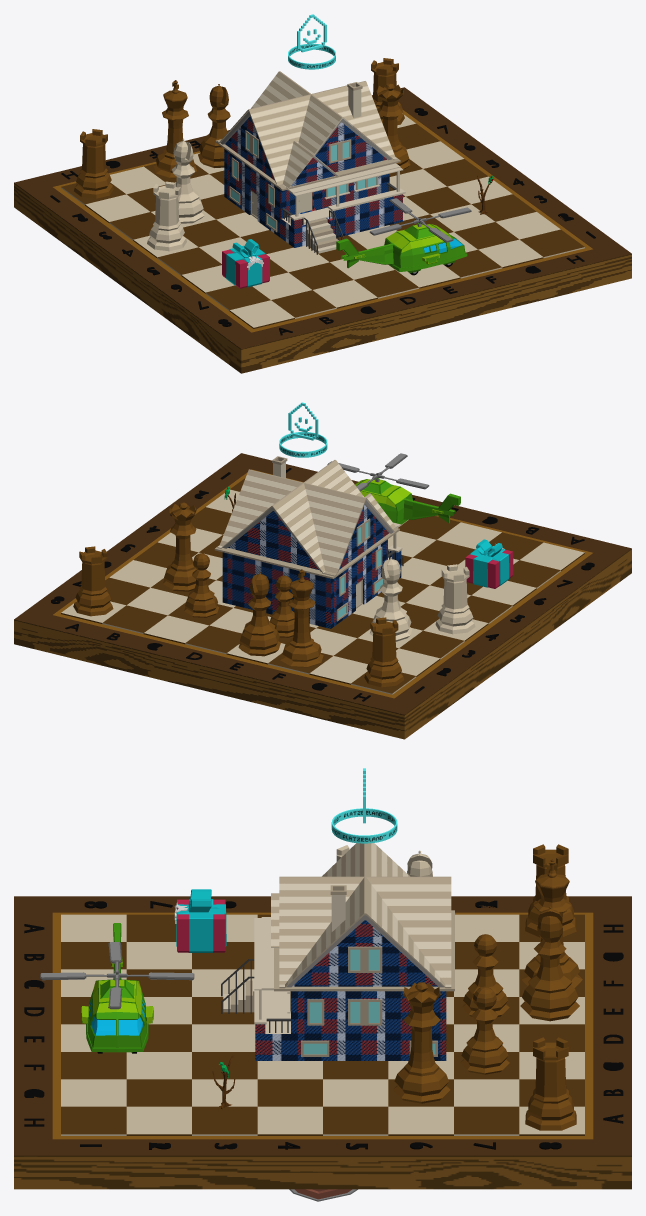
3 renders of one model, top to bottom at view 1: azimuth 30°, elevation 25°; view 2: azimuth 150°, elevation 25°; view 3: azimuth 270°, elevation 25°, orthographic. The views are drawn at different scales.
Parts seen in each view (by area): view 1: Cube.002, Cube.171, VEHICLES_HELICOPTER, OBJRANDOM_GIANT_PRESENT, TYPE_PREMIUM; view 2: Cube.002, Cube.171, VEHICLES_HELICOPTER, OBJRANDOM_GIANT_PRESENT, TYPE_PREMIUM; view 3: Cube.002, Cube.171, VEHICLES_HELICOPTER, OBJRANDOM_GIANT_PRESENT, TYPE_PREMIUM.
Part boxes in pixels (left/top/right/bottom): Cube.002: left=14, top=58, right=631, bottom=373; Cube.171: left=215, top=71, right=405, bottom=254; VEHICLES_HELICOPTER: left=336, top=198, right=471, bottom=275; OBJRANDOM_GIANT_PRESENT: left=222, top=239, right=269, bottom=288; TYPE_PREMIUM: left=288, top=14, right=335, bottom=69; Cube.002: left=14, top=453, right=631, bottom=739; Cube.171: left=214, top=456, right=403, bottom=628; VEHICLES_HELICOPTER: left=327, top=453, right=460, bottom=524; OBJRANDOM_GIANT_PRESENT: left=465, top=539, right=513, bottom=588; TYPE_PREMIUM: left=279, top=402, right=327, bottom=457; Cube.002: left=14, top=844, right=631, bottom=1189; Cube.171: left=221, top=843, right=454, bottom=1060; VEHICLES_HELICOPTER: left=40, top=923, right=194, bottom=1053; OBJRANDOM_GIANT_PRESENT: left=174, top=889, right=226, bottom=952; TYPE_PREMIUM: left=331, top=768, right=397, bottom=843.
Bounding box in the file's own units: 3981 × 2894 × 4012.
Materials: 41 (4 with a texture image).
